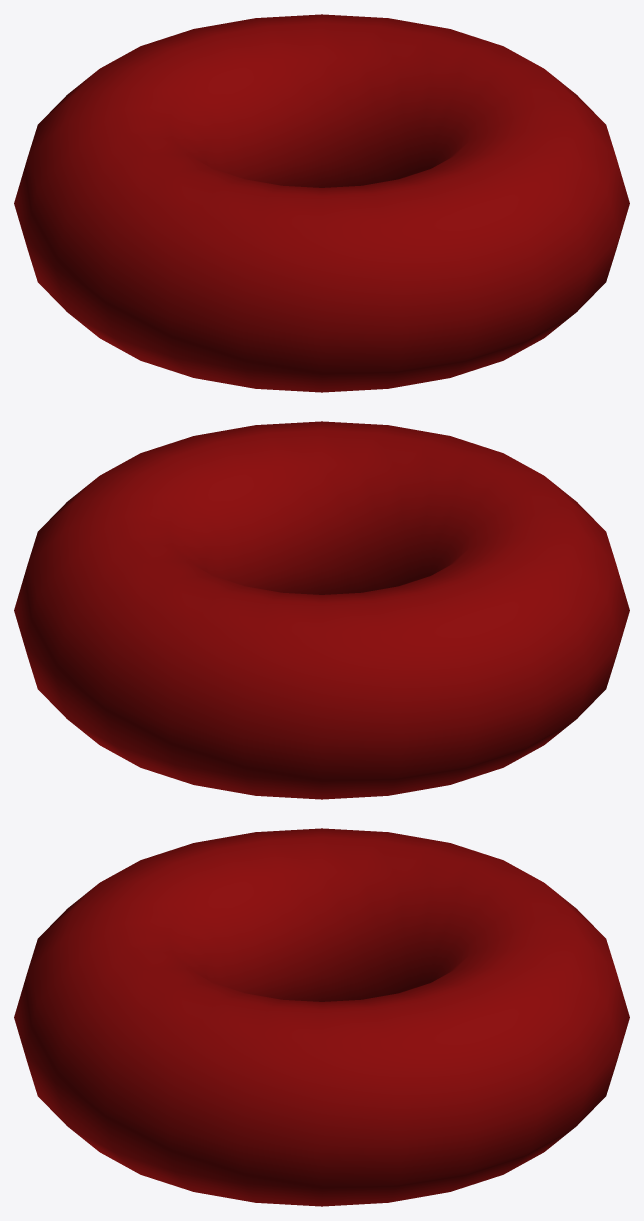
The model's file is ToonTorus.obj.
3 renders of one model, top to bottom at view 1: azimuth 30°, elevation 25°; view 2: azimuth 150°, elevation 25°; view 3: azimuth 270°, elevation 25°, orthographic.
Visible parts, largest first — view 1: Torus001; view 2: Torus001; view 3: Torus001.
Part boxes in pixels (bbox=[...]): Torus001: bbox=[14, 14, 629, 392]; Torus001: bbox=[14, 421, 629, 799]; Torus001: bbox=[14, 828, 629, 1206].
Size of the model in its own units: 2.4 by 0.8 by 2.4.
